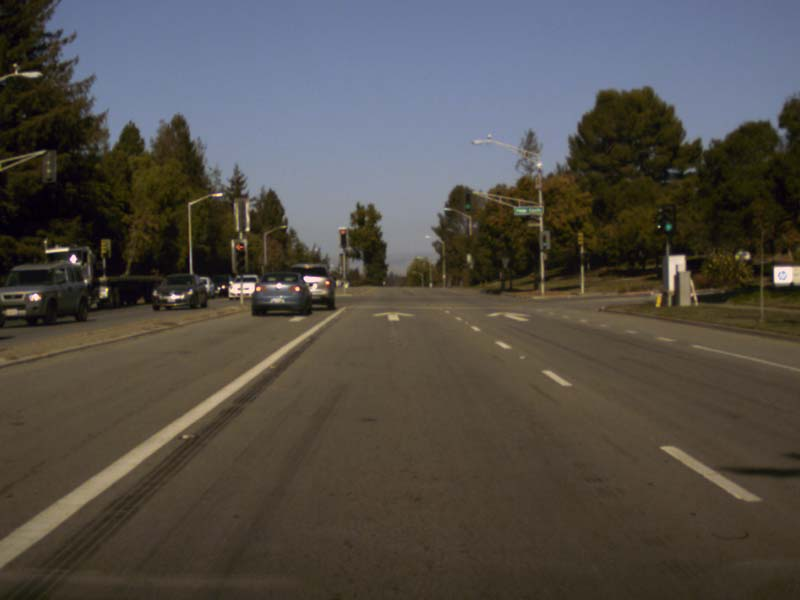Green: (661, 204, 674, 233), (465, 194, 471, 210), (542, 232, 546, 247)
Red: (234, 242, 245, 271), (338, 230, 345, 247)
